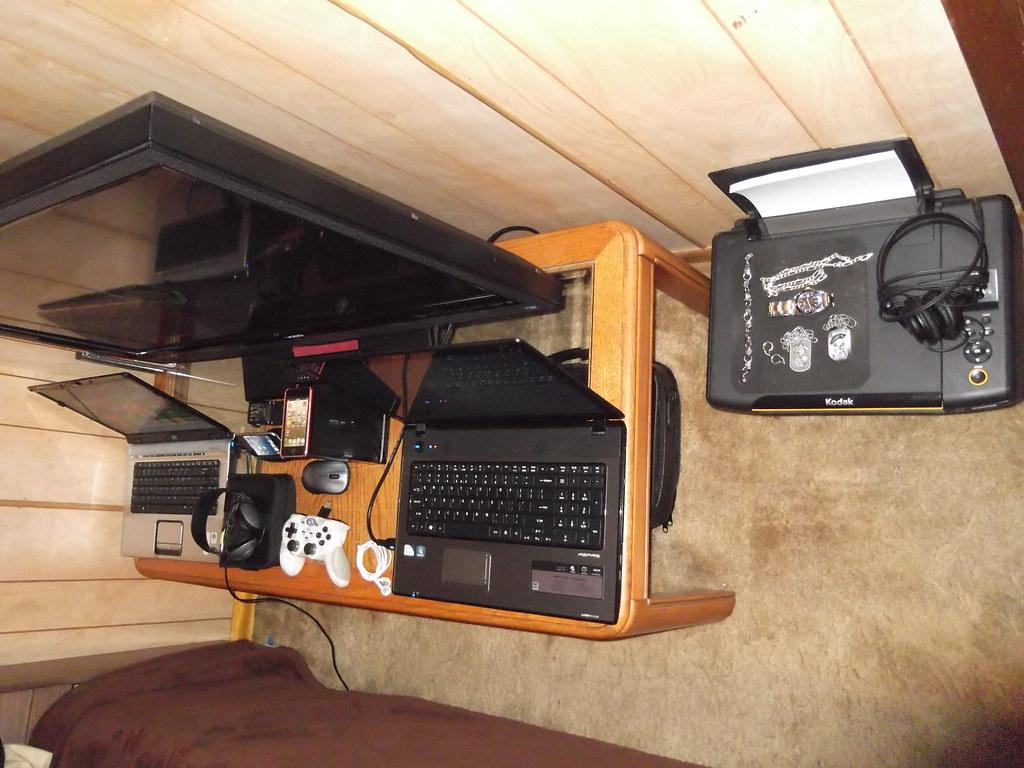computer: (2, 90, 734, 641), (1, 90, 567, 422), (705, 137, 1023, 417), (392, 337, 628, 625), (29, 371, 235, 565)
